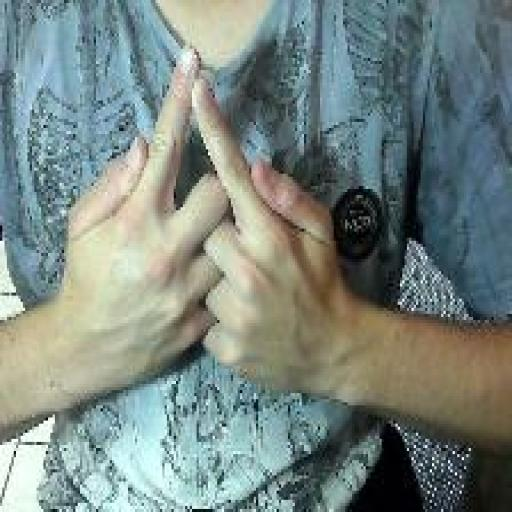Uma -horse-: (60, 40, 342, 414)
